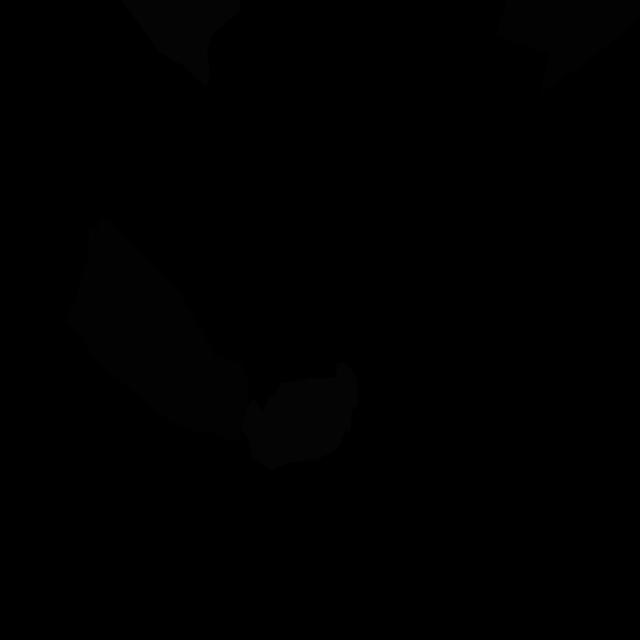cardboard: (63, 217, 249, 442), (496, 0, 640, 94)
soft_plastic: (242, 362, 359, 470), (122, 0, 241, 86)
